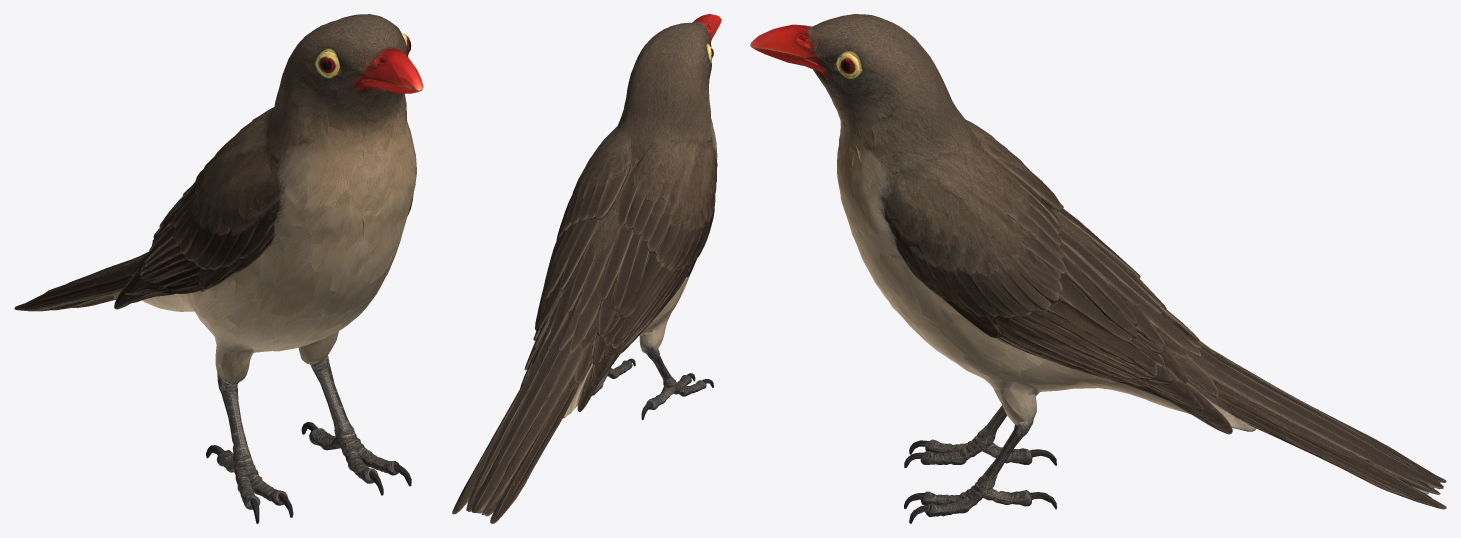
File: red-billed-oxpecker.glb
3 renders of one model, left to right at view 1: azimuth 30°, elevation 25°; view 2: azimuth 150°, elevation 25°; view 3: azimuth 270°, elevation 25°, orthographic. The views are drawn at different scales.
Size of the model in its own units: 0.5773 by 1.44 by 1.9.
1 material, 1 textured.
